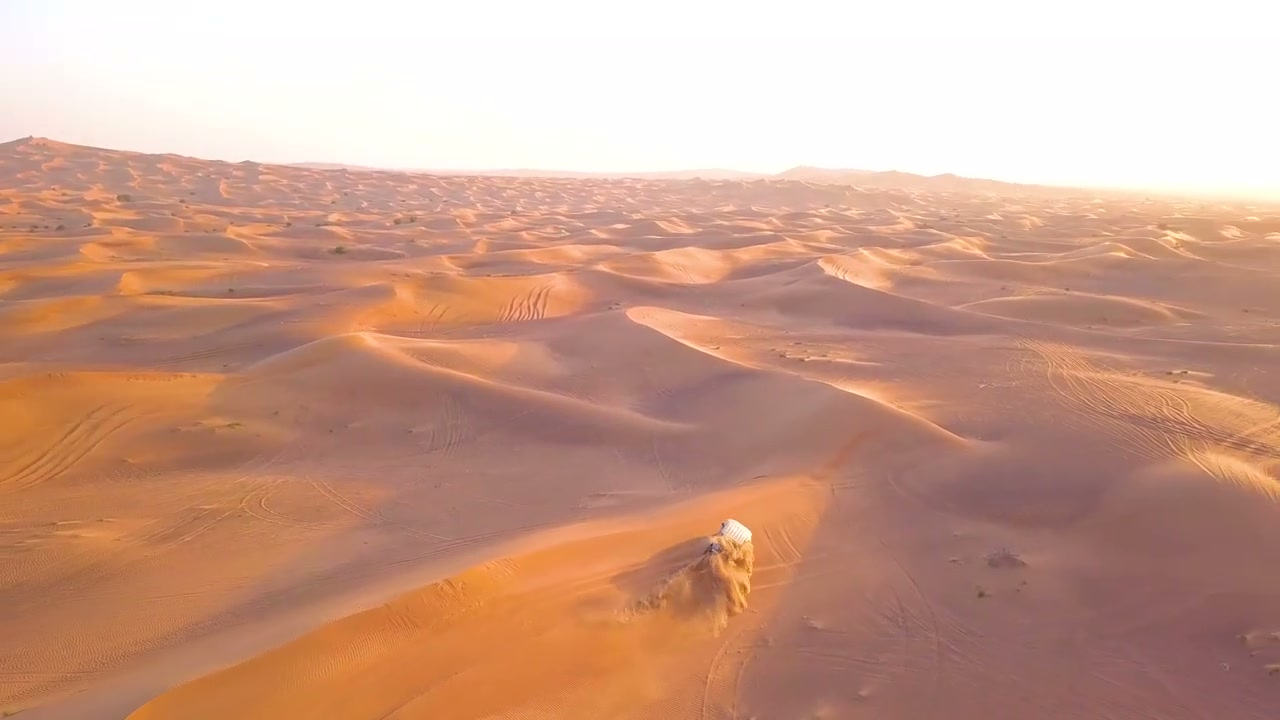vehicle_track: (1022, 341, 1279, 461), (132, 445, 290, 552), (0, 404, 134, 488), (303, 473, 452, 542), (698, 616, 761, 719), (240, 478, 332, 529), (149, 342, 259, 366), (496, 283, 552, 323)
